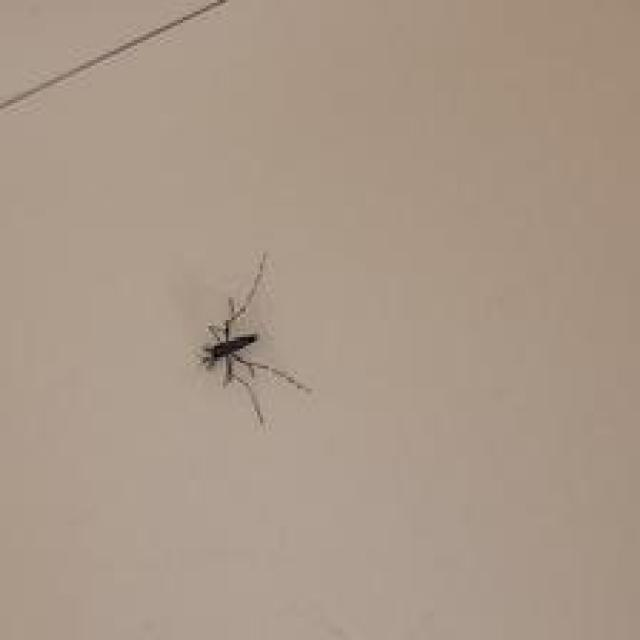Aedes albopictus: (193, 250, 313, 427)
